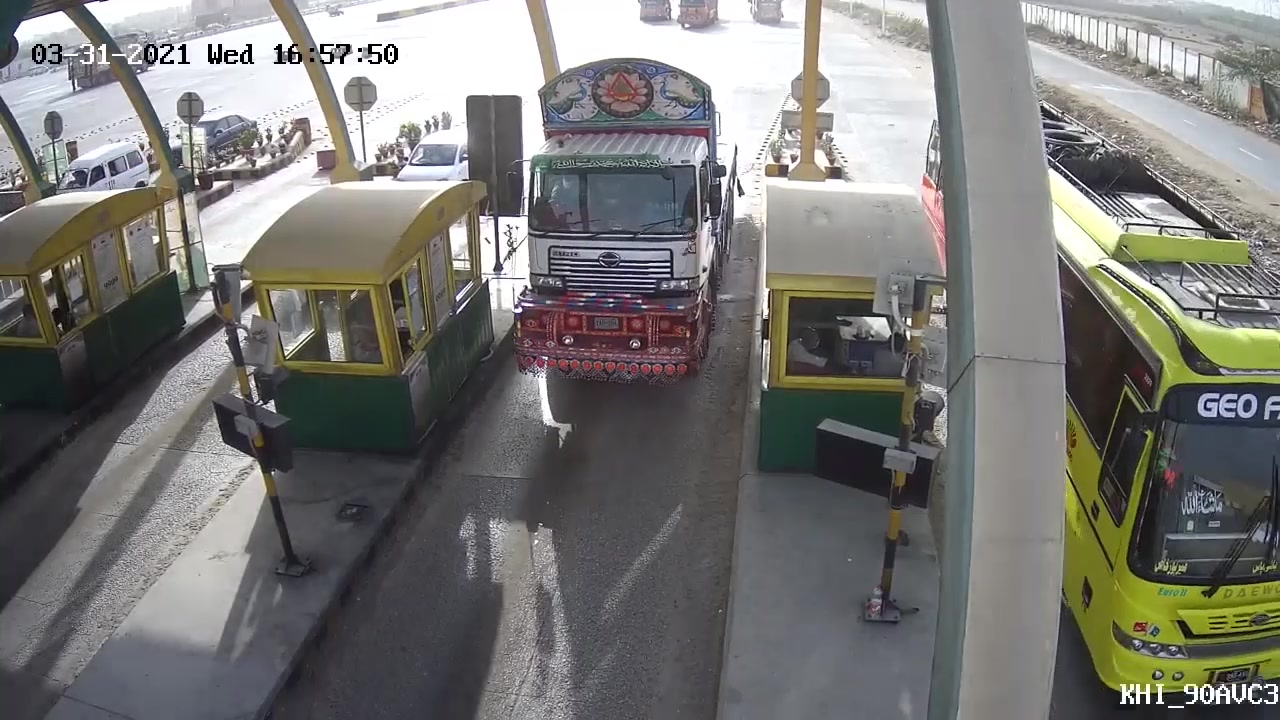F5: (501, 56, 743, 378)
